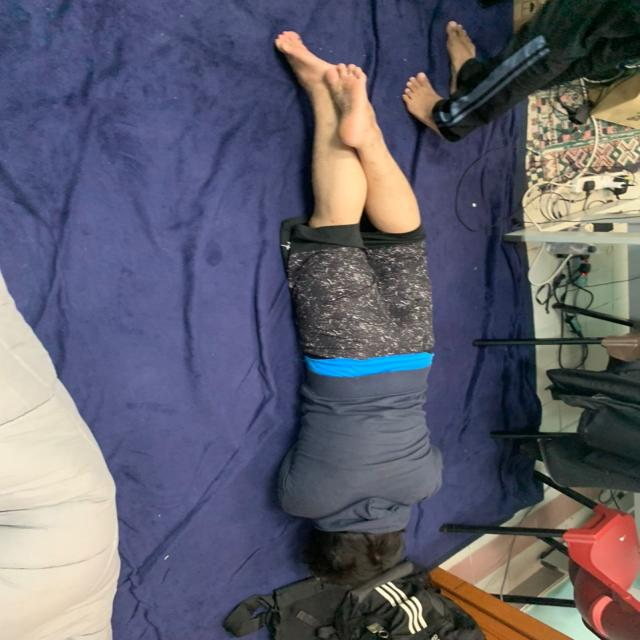Fall-Detected: (255, 25, 435, 578)
